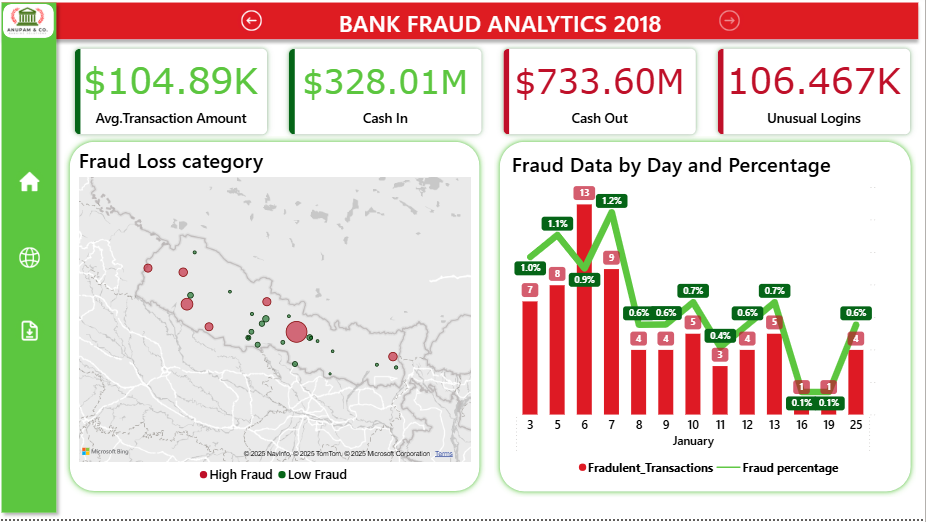

Layout of this report page (visuals, bound fields, positions):
{"tool":"powerbi","page":{"name":"Customer behaviour","canvas":[1280,720],"ordinal":1},"visuals":[{"type":"cardVisual","fields":{"Data":["Fraud Dataset.Avg.Transaction Amount","Fraud Dataset.Cash In","Fraud Dataset.Cash Out","Sum(Fraud Dataset.unusual_login)"]},"box":[93.3,56.7,1185,150],"z":0},{"type":"shape","box":[687.1,192.9,581.4,497.1],"z":1000},{"type":"lineClusteredColumnComboChart","title":"Fraud Data by Day and  Percentage","fields":{"Y":["Fraud Dataset.Fradulent Transactions"],"Y2":["Fraud Dataset.Fraud percentage"],"Category":["Fraud Dataset.transaction_date.Variation.Date Hierarchy.Month","Fraud Dataset.transaction_date.Variation.Date Hierarchy.Day"]},"box":[705.7,211.4,555.7,457.1],"z":2000},{"type":"shape","box":[95,193.3,580,496.7],"z":3000},{"type":"map","title":"Fraud Loss category","fields":{"Category":["Fraud Dataset.branch"],"Size":["Fraud Dataset.Fraud Loss Amount"],"Series":["Fraud Dataset.Branch Fraud Category"]},"box":[110,206.7,550,473.3],"z":4000},{"type":"shape","box":[1.7,0,1278.3,68.3],"z":5000},{"type":"shape","box":[0,0,93.3,720],"z":6000},{"type":"shape","box":[11.7,11.7,70,46.7],"z":7000},{"type":"textbox","box":[468.3,10,460,58.3],"z":8000},{"type":"image","box":[4.1,0,81.2,68.8],"z":9000},{"type":"actionButton","box":[991.4,14.3,40,40],"z":10000},{"type":"actionButton","box":[332.9,14.3,40,40],"z":11000},{"type":"actionButton","box":[27.1,235.7,40,40],"z":12000},{"type":"actionButton","box":[27.1,340,40,40],"z":12001},{"type":"actionButton","box":[27.1,440,40,40],"z":12002}]}

Visuals, with their boxes in screenshot pixels (x1, y1, x2, y2), scaled from the page's 1280x720 canvas onto the 926x522 screenshot:
cardVisual - Fraud Dataset.Avg.Transaction Amount x Fraud Dataset.Cash In: (left=67, top=41, right=925, bottom=150)
shape: (left=497, top=140, right=918, bottom=500)
"Fraud Data by Day and  Percentage" lineClusteredColumnComboChart: (left=511, top=153, right=913, bottom=485)
shape: (left=69, top=140, right=488, bottom=500)
"Fraud Loss category" map: (left=80, top=150, right=477, bottom=493)
shape: (left=1, top=0, right=925, bottom=50)
shape: (left=0, top=0, right=67, bottom=521)
shape: (left=8, top=8, right=59, bottom=42)
textbox: (left=339, top=7, right=672, bottom=50)
image: (left=3, top=0, right=62, bottom=50)
actionButton: (left=717, top=10, right=746, bottom=39)
actionButton: (left=241, top=10, right=270, bottom=39)
actionButton: (left=20, top=171, right=49, bottom=200)
actionButton: (left=20, top=246, right=49, bottom=276)
actionButton: (left=20, top=319, right=49, bottom=348)
